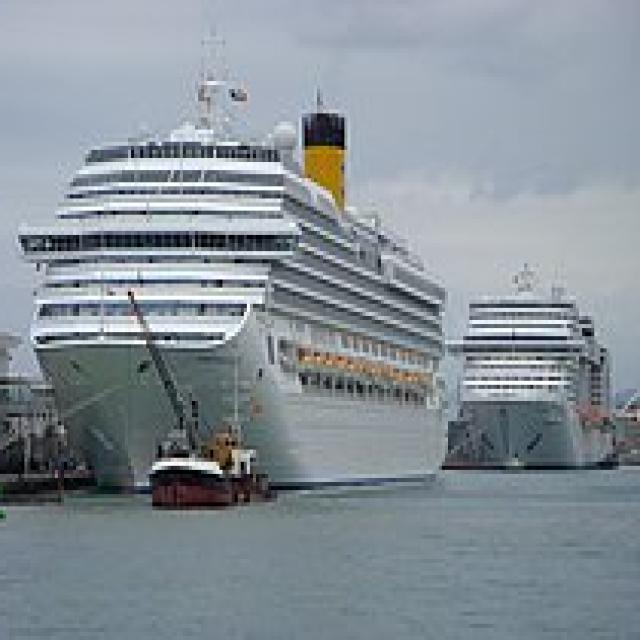Cruise: (18, 24, 454, 490), (448, 255, 619, 470)
